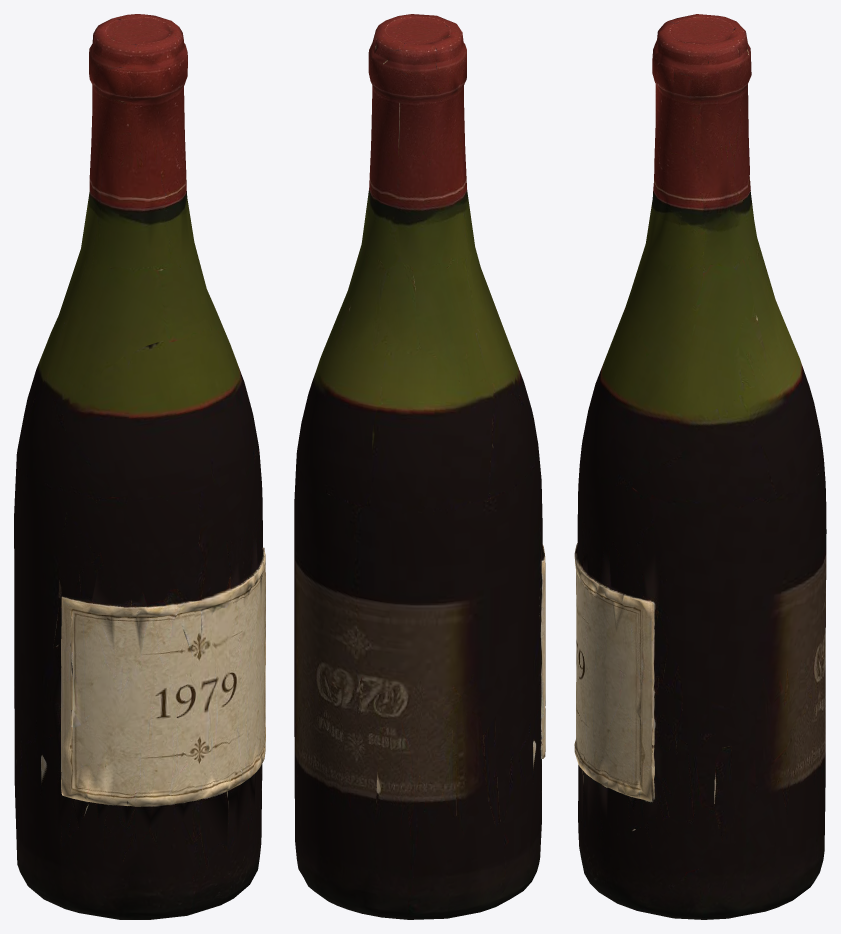
Rendered from bottle.glb.
The picture shows the model from 3 angles, left to right: view 1: azimuth 30°, elevation 25°; view 2: azimuth 150°, elevation 25°; view 3: azimuth 270°, elevation 25°; orthographic projection.
Size of the model in its own units: 0.5067 by 1.9 by 0.5144.
Materials: 1 (1 with a texture image).
